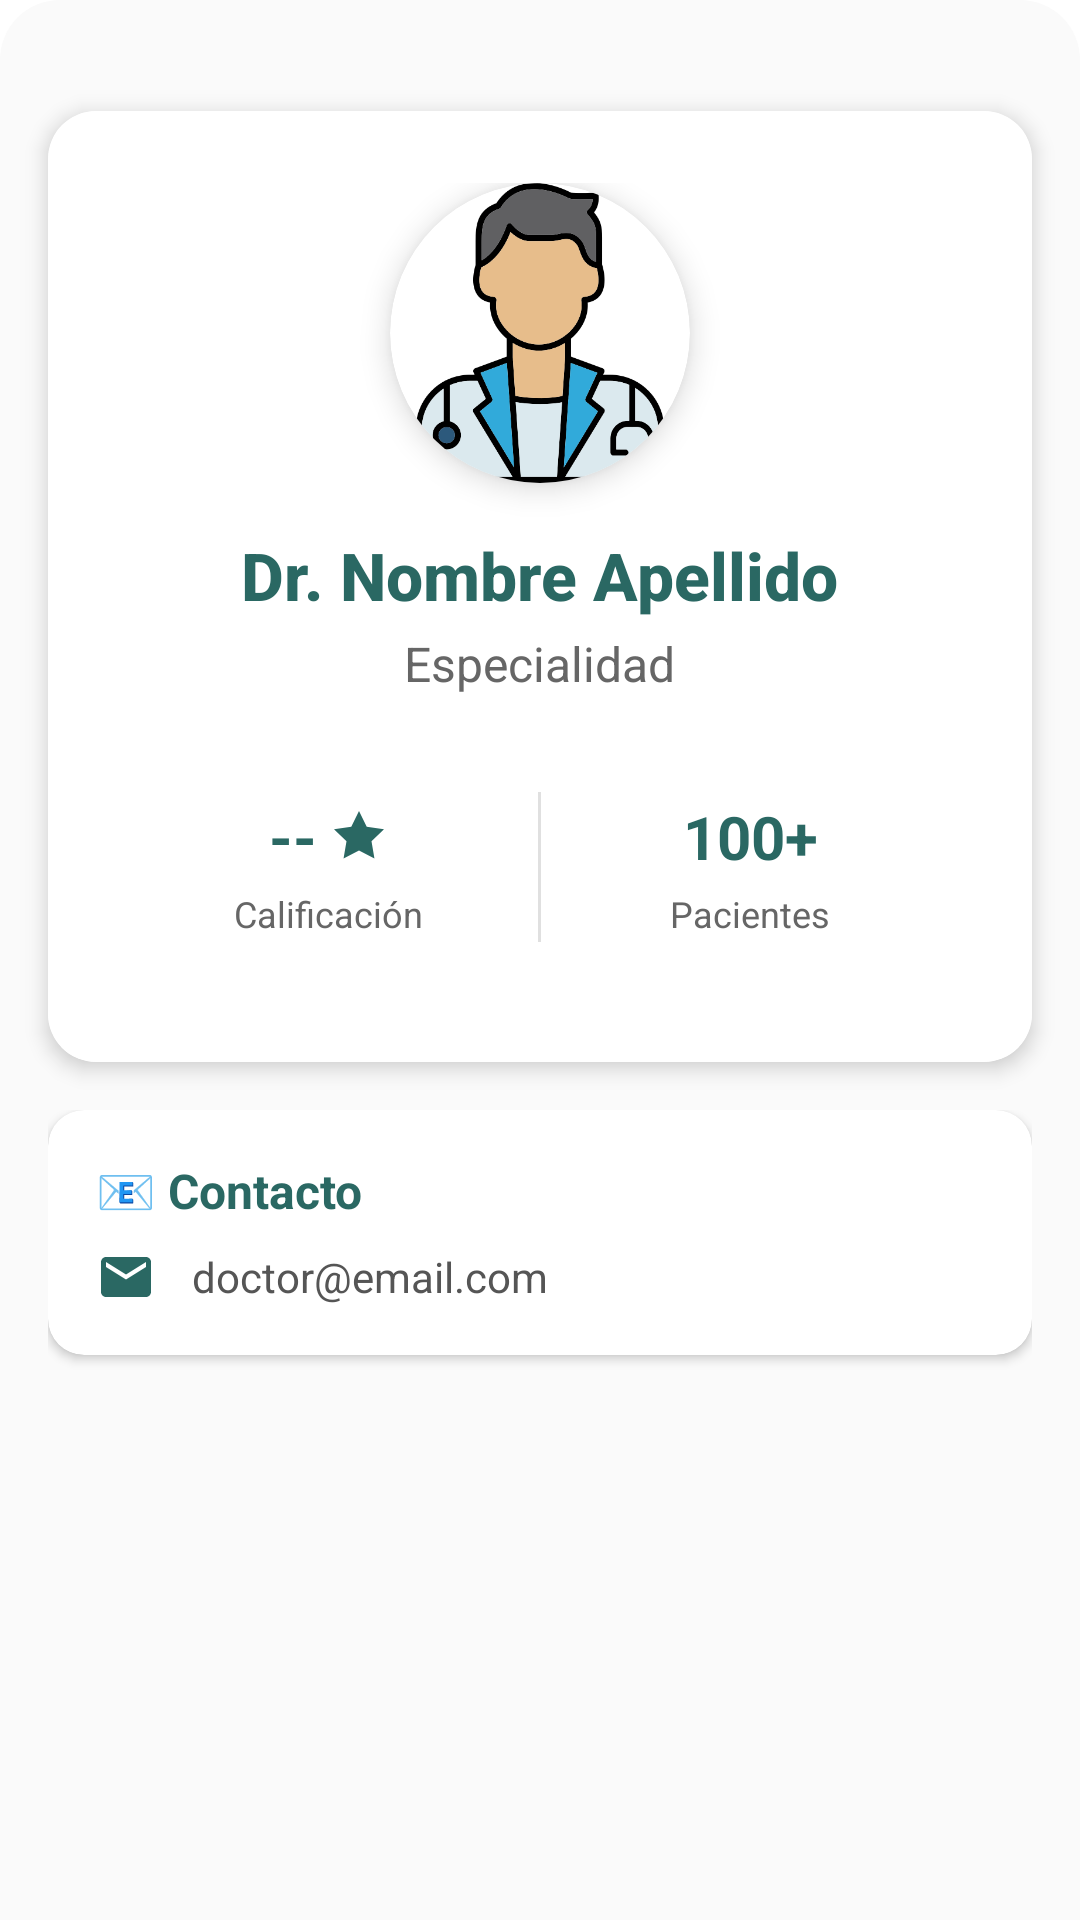

Screen size 1080px x 1920px. Icon name, then its box in pixels as [x1, y1, x2, y2]:
doctor: [397, 183, 683, 483]
star: [334, 811, 384, 859]
